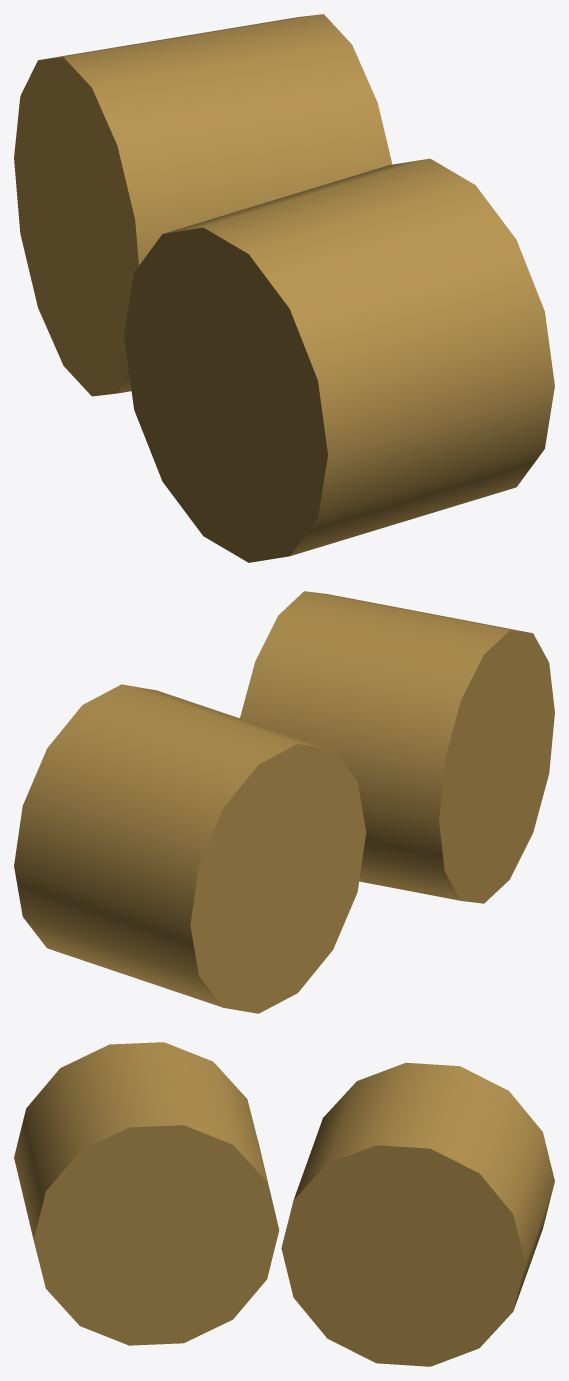
File: scatter2.fbx
3 views of the same model, one above another, from view 1: azimuth 30°, elevation 25°; view 2: azimuth 150°, elevation 25°; view 3: azimuth 270°, elevation 25° (orthographic). The views are drawn at different scales.
Parts seen in each view (by area): view 1: a1000/600/scatter2; view 2: a1000/600/scatter2; view 3: a1000/600/scatter2.
Boxes of the visible parts, <box> form: a1000/600/scatter2: <box>14,14,554,562</box>; a1000/600/scatter2: <box>14,591,554,1013</box>; a1000/600/scatter2: <box>14,1042,554,1366</box>.
Size of the model in its own units: 1.68 by 1.46 by 3.29.
